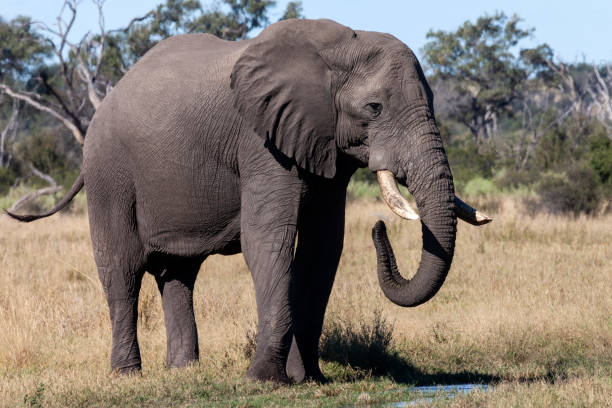africanelephant: (283, 26, 485, 242)
